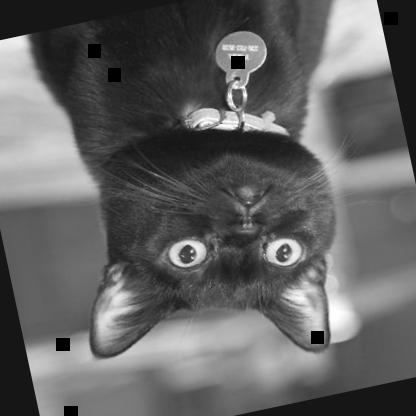cat: (23, 0, 415, 402)
